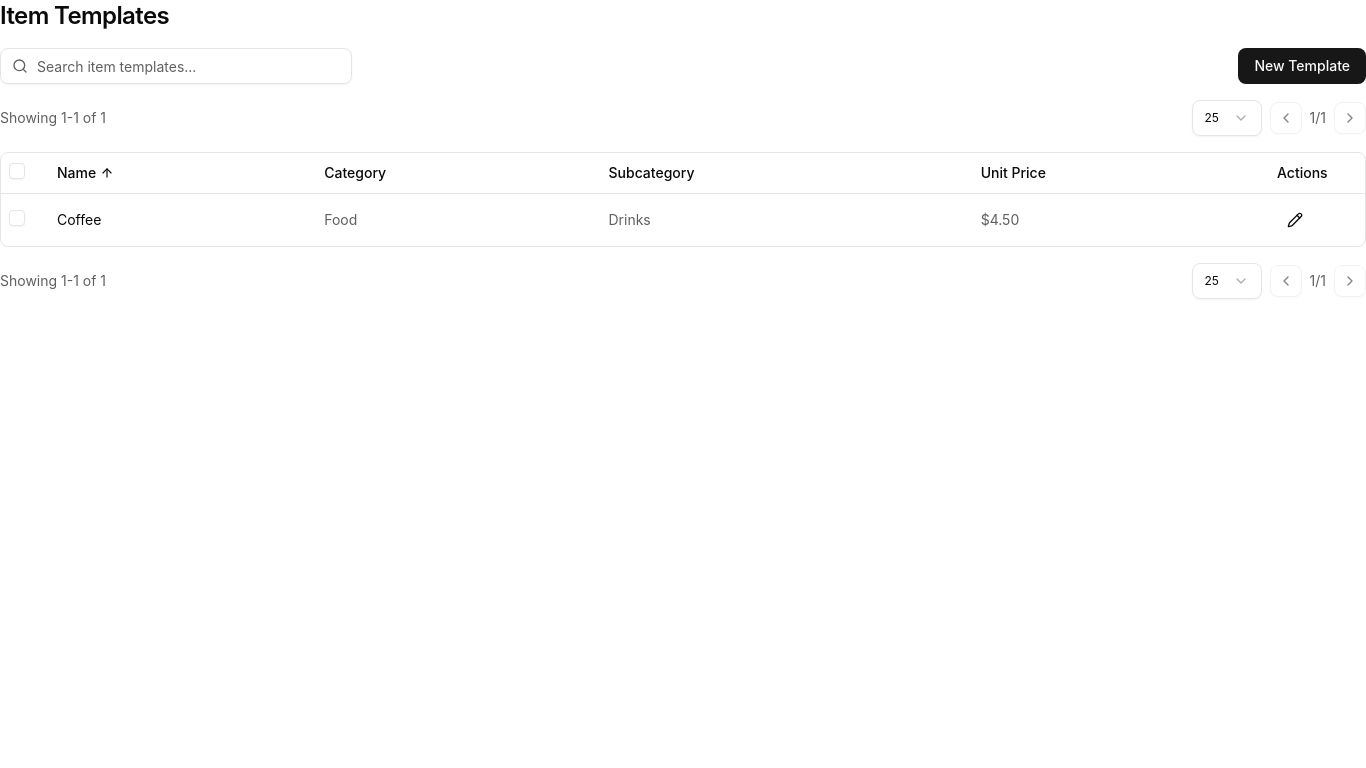
it: ItemTemplates › closes edit dialog when dismissed
Click the button named "edit" at (1295, 220), box [1277,202,1313,238]
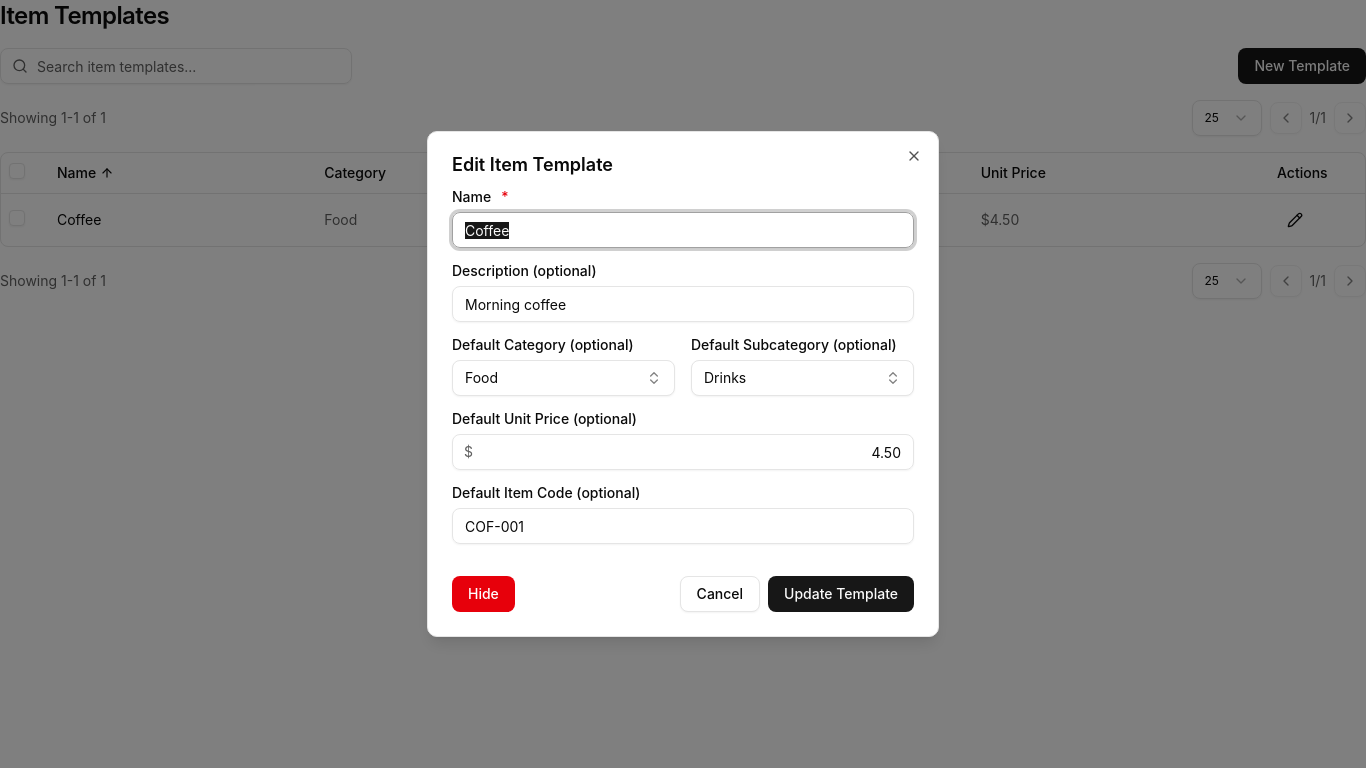
Check: the heading "Edit Item Template" is shown, box [452,154,613,175]
Press Escape
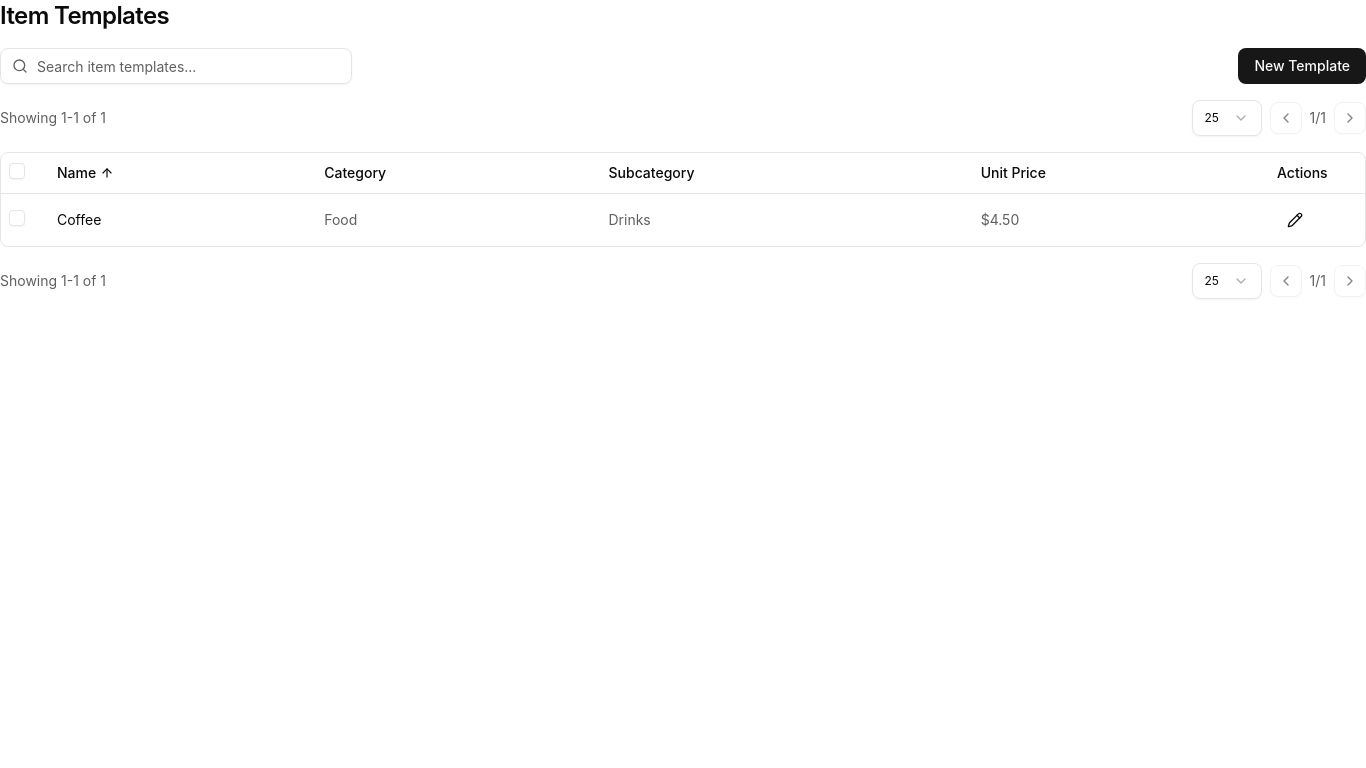
Check: the heading "Edit Item Template" is gone
